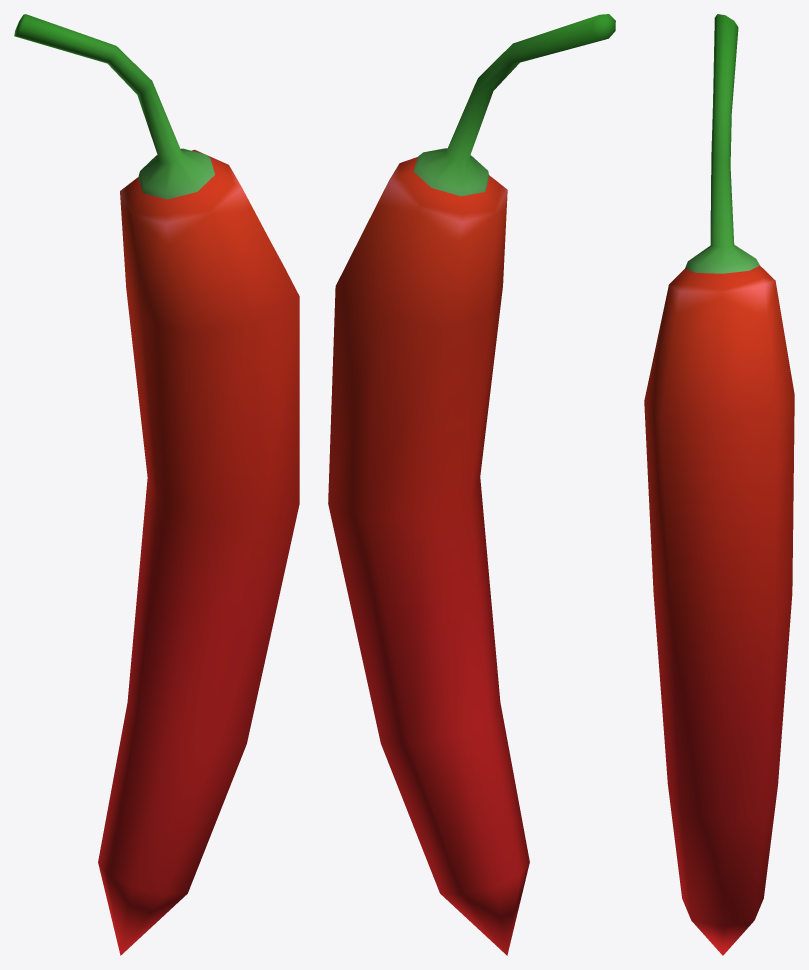
File: Chilipepper.FBX
The picture shows the model from 3 angles, left to right: view 1: azimuth 30°, elevation 25°; view 2: azimuth 150°, elevation 25°; view 3: azimuth 270°, elevation 25°; orthographic projection. The views are drawn at different scales.
Visible parts, largest first — view 1: Chilipepper; view 2: Chilipepper; view 3: Chilipepper.
Part boxes in pixels (x1,y1,x2,y2): Chilipepper: (14, 14, 299, 955); Chilipepper: (328, 14, 615, 955); Chilipepper: (644, 14, 794, 955).
Bounding box in the file's own units: 3.89 × 13.06 × 1.98.
Materials: 1 (1 with a texture image).
